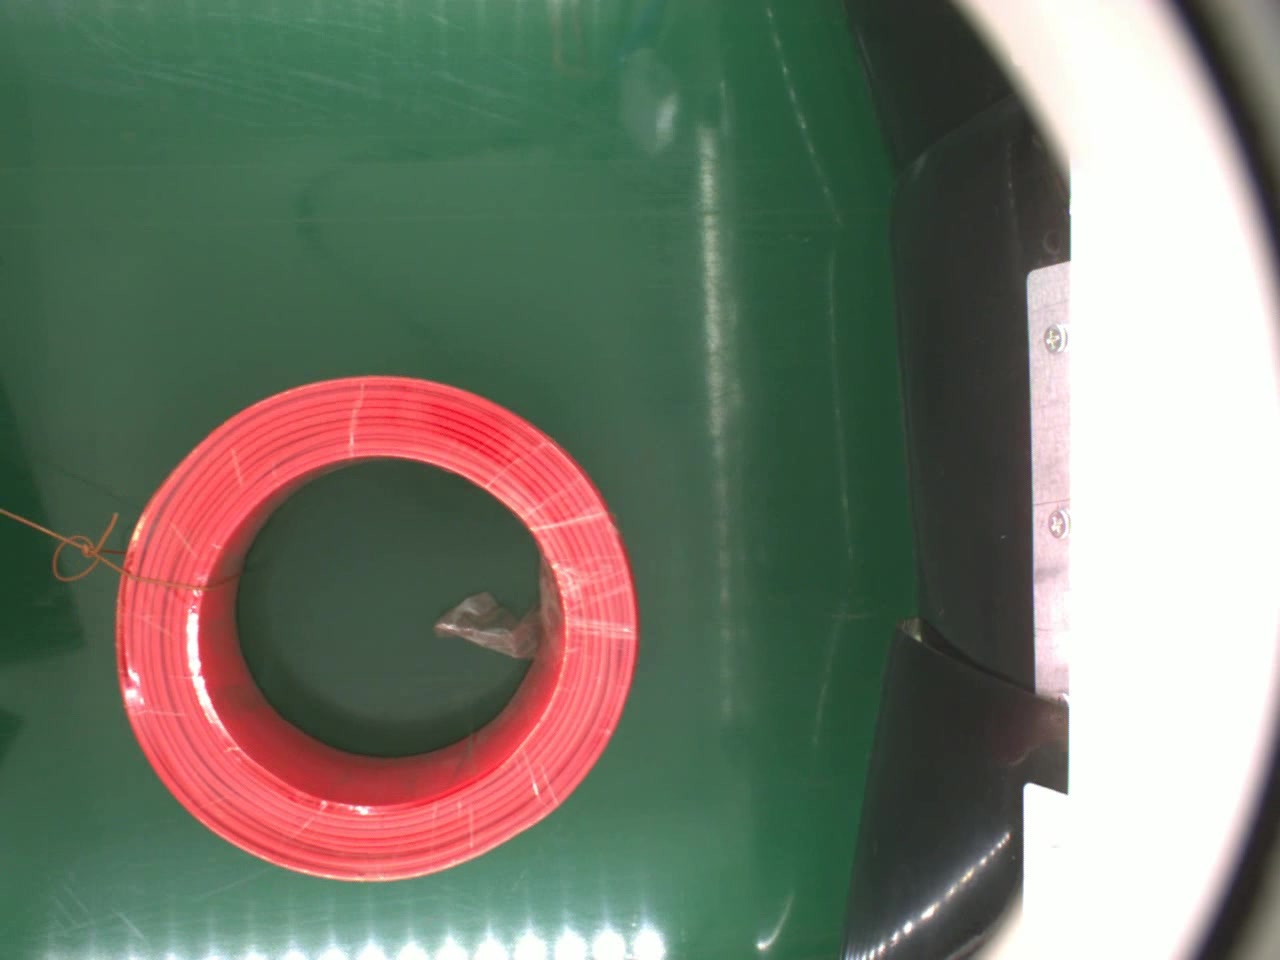red: (109, 369, 655, 894)
